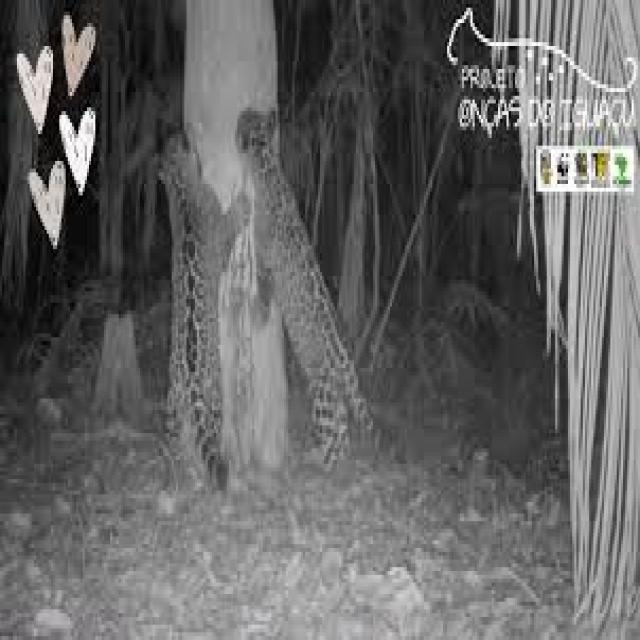Jaguar: (233, 115, 379, 464), (148, 127, 242, 475)
